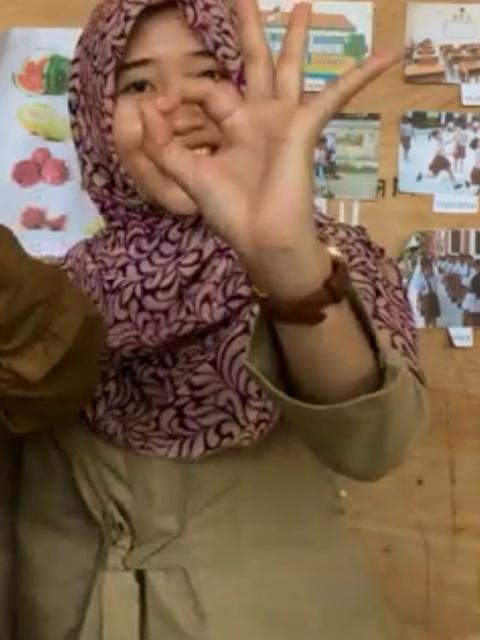F: (138, 2, 419, 242)
